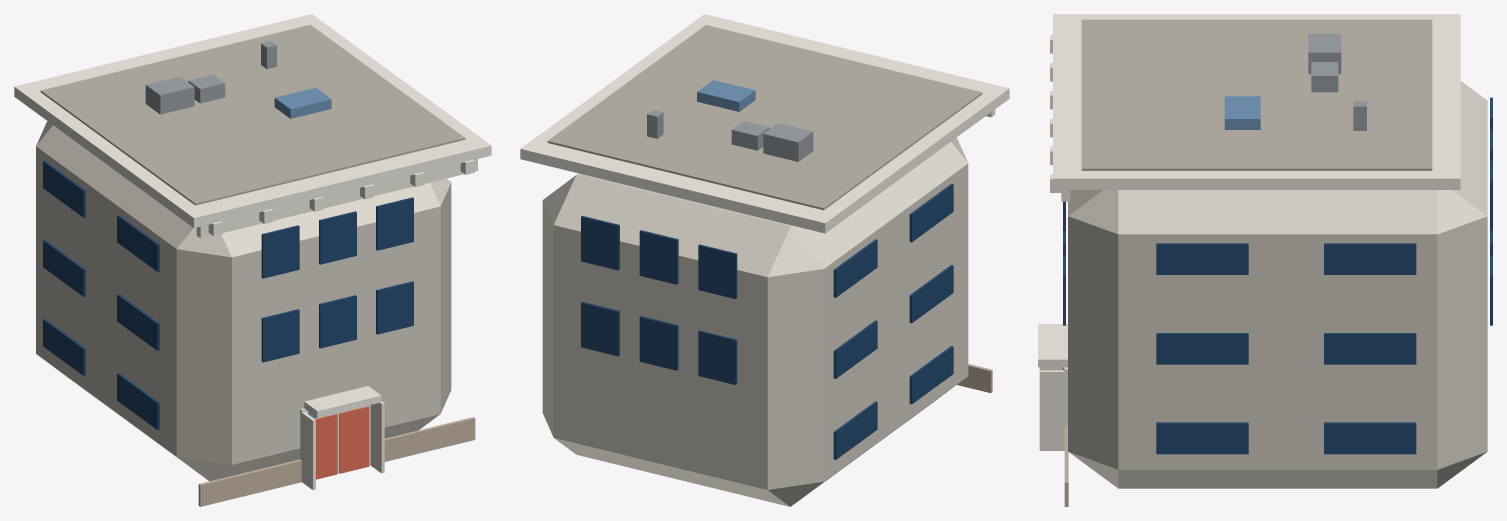
File: apt_w12_f3_punched.glb
3 renders of one model, left to right at view 1: azimuth 30°, elevation 25°; view 2: azimuth 150°, elevation 25°; view 3: azimuth 270°, elevation 25°, orthographic. The views are drawn at different scales.
Visible parts, largest first — view 1: walls, roofslab, corn, bsmt, frieze, door.001, win.003, win, win.001, win.002, win.004, win.005 (+14 smaller); view 2: walls, roofslab, corn, win.006, win.007, win.009, win.010, win.008, win.011, hvac, sb.006, sb.010 (+7 smaller); view 3: walls, roofslab, corn, sb.001, sb.003, sb.005, sb.007, sb.009, sb.011, cpost.001, canopy, skylt (+2 smaller).
Part boxes in pixels (bbox=[...]): walls: bbox=[36, 121, 451, 481]; roofslab: bbox=[40, 24, 465, 205]; corn: bbox=[14, 14, 491, 228]; bsmt: bbox=[198, 417, 475, 506]; frieze: bbox=[196, 159, 477, 238]; door.001: bbox=[339, 406, 369, 473]; win.003: bbox=[261, 225, 299, 278]; win: bbox=[261, 309, 299, 362]; win.001: bbox=[319, 295, 356, 348]; win.002: bbox=[376, 281, 413, 334]; win.004: bbox=[319, 211, 356, 264]; win.005: bbox=[376, 197, 413, 250]; walls: bbox=[542, 138, 968, 506]; roofslab: bbox=[547, 25, 982, 210]; corn: bbox=[520, 14, 1009, 233]; win.006: bbox=[698, 330, 737, 384]; win.007: bbox=[639, 316, 678, 370]; win.009: bbox=[698, 244, 737, 298]; win.010: bbox=[639, 230, 678, 284]; win.008: bbox=[581, 301, 619, 356]; win.011: bbox=[581, 215, 619, 270]; hvac: bbox=[763, 123, 813, 161]; sb.006: bbox=[833, 320, 877, 378]; sb.010: bbox=[833, 239, 877, 297]; walls: bbox=[1068, 81, 1487, 488]; roofslab: bbox=[1081, 19, 1432, 170]; corn: bbox=[1053, 14, 1460, 189]; sb.001: bbox=[1156, 422, 1248, 454]; sb.003: bbox=[1324, 422, 1416, 454]; sb.005: bbox=[1156, 333, 1248, 364]; sb.007: bbox=[1324, 333, 1416, 364]; sb.009: bbox=[1156, 243, 1248, 274]; sb.011: bbox=[1324, 243, 1416, 274]; cpost.001: bbox=[1039, 370, 1064, 450]; canopy: bbox=[1038, 324, 1067, 367]; skylt: bbox=[1224, 96, 1260, 129].
Bounding box in the file's own units: 13 × 13.3 × 15.17.
